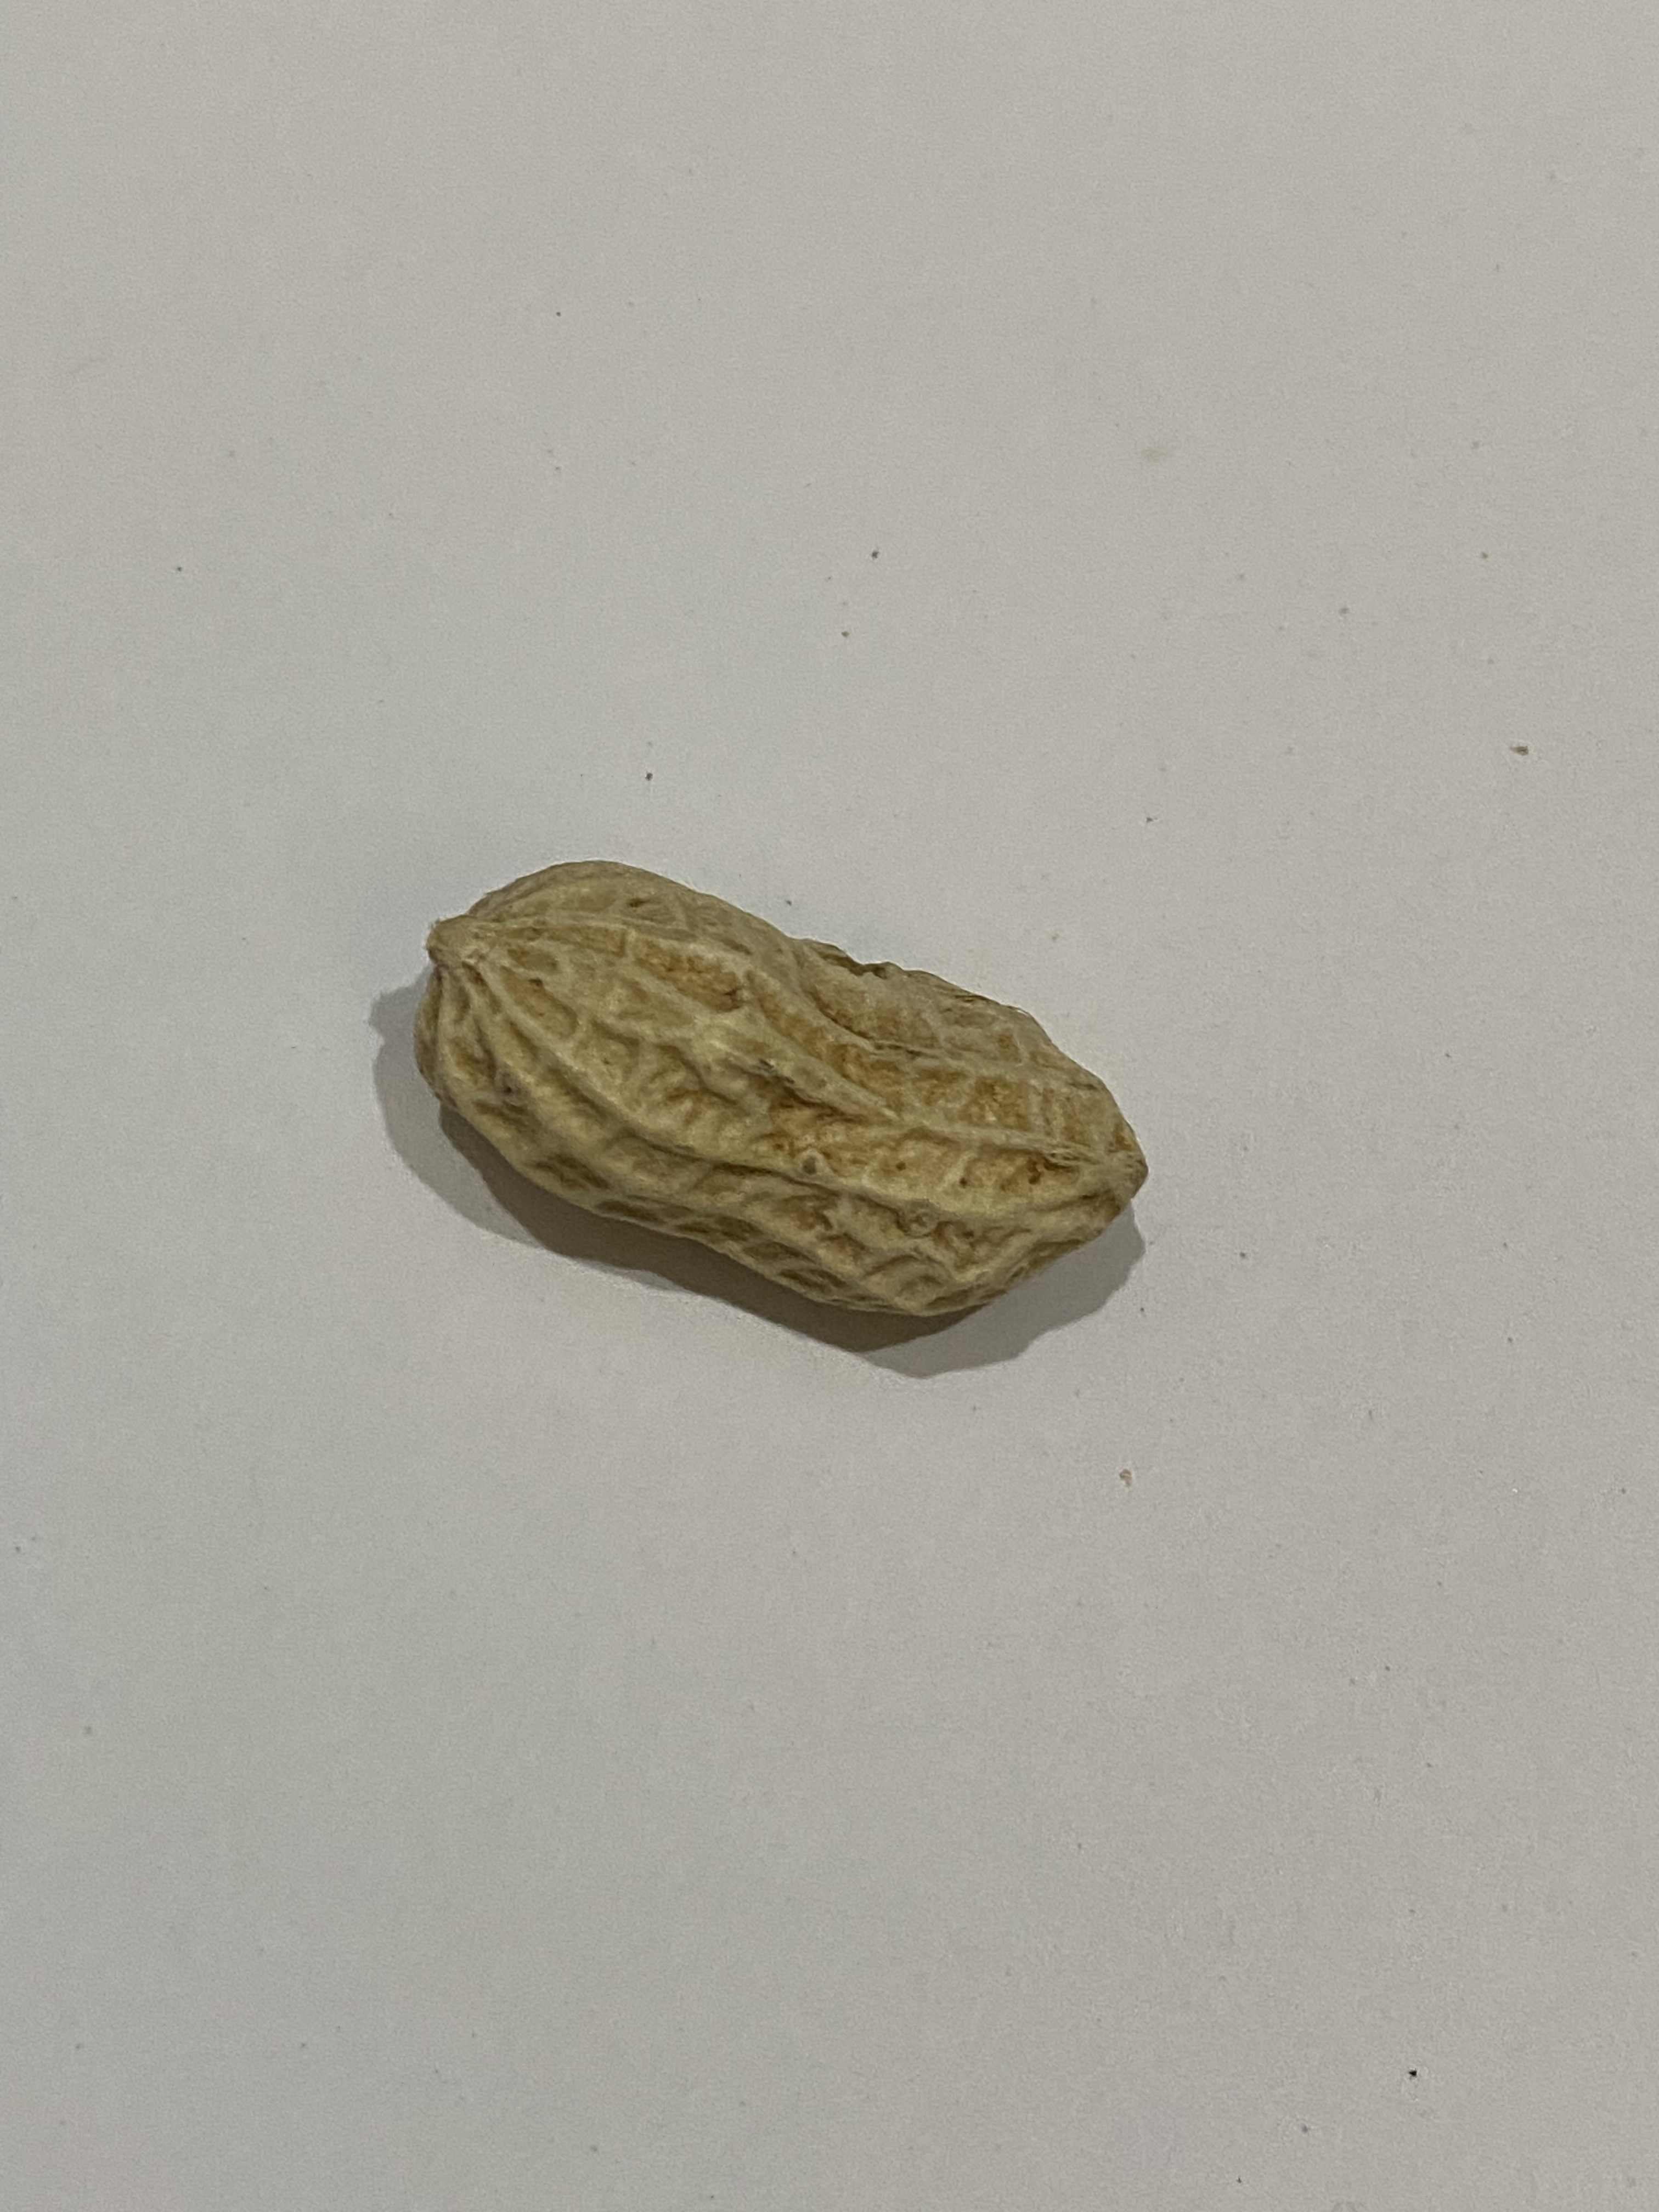kacang2: (378, 855, 1171, 1339)
